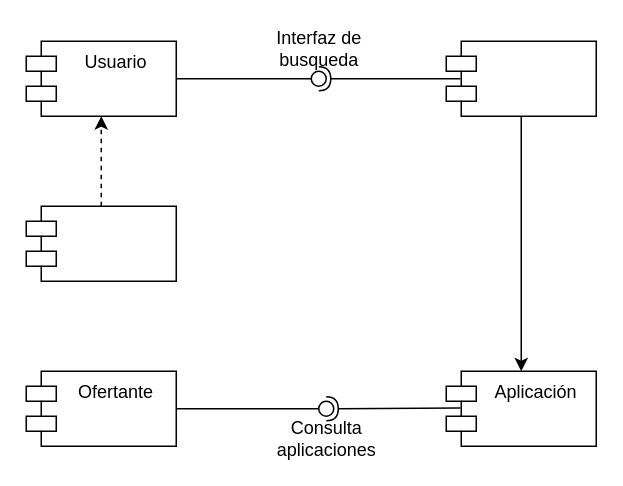
Image size: 623x486. Some labels were removed from this diagram. Each missing label, with the centre of its shape:
Aplica oferta: the point at 520,78
Hoja de vida: the point at 100,243
